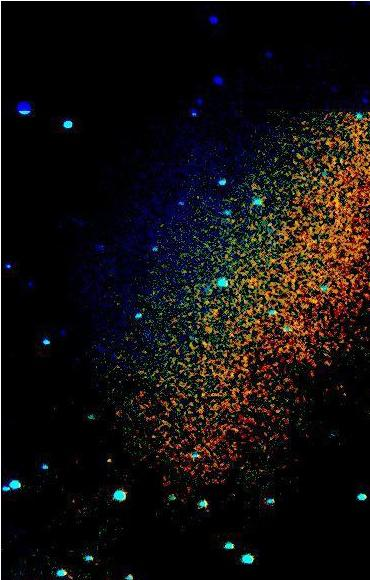star: (93, 446, 123, 476)
